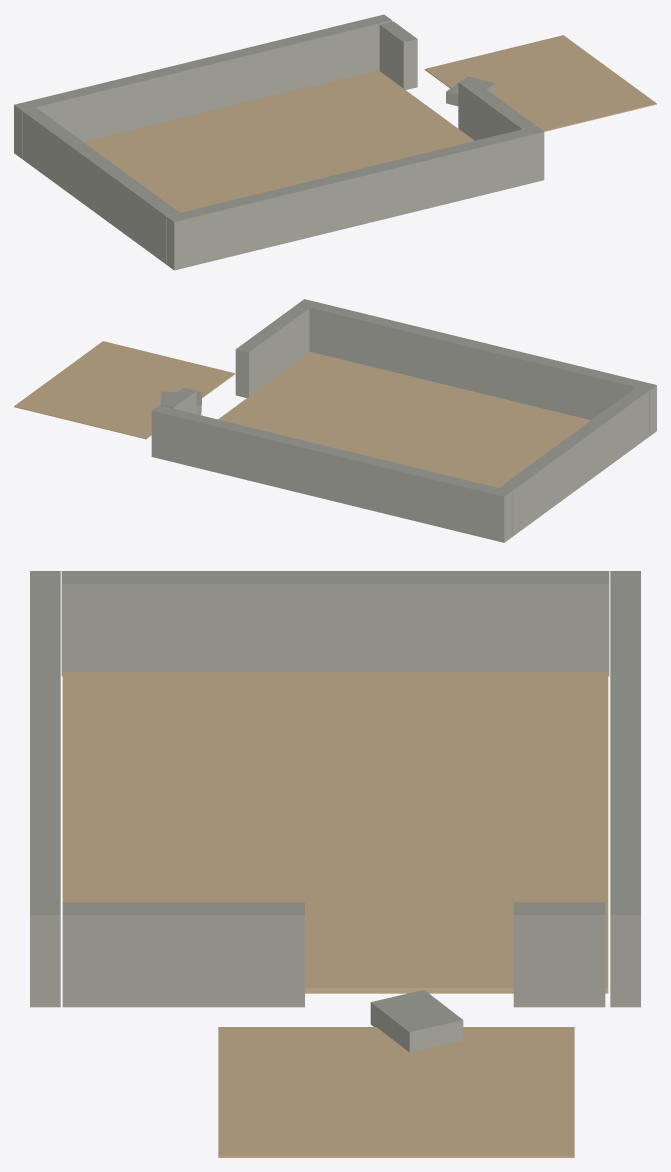
Rendered from SM_Balsa_v4_Rota_LOD1.fbx.
3 views of the same model, one above another, from view 1: azimuth 30°, elevation 25°; view 2: azimuth 150°, elevation 25°; view 3: azimuth 270°, elevation 25° (orthographic). The views are drawn at different scales.
Visible parts, largest first — view 1: SM_huerta_nules_v14_LOD1; view 2: SM_huerta_nules_v14_LOD1; view 3: SM_huerta_nules_v14_LOD1.
Part boxes in pixels (<box>): SM_huerta_nules_v14_LOD1: <box>14,14,656,270</box>; SM_huerta_nules_v14_LOD1: <box>14,299,656,542</box>; SM_huerta_nules_v14_LOD1: <box>30,571,640,1157</box>.
Bounding box in the file's own units: 11.5 × 1 × 6.
